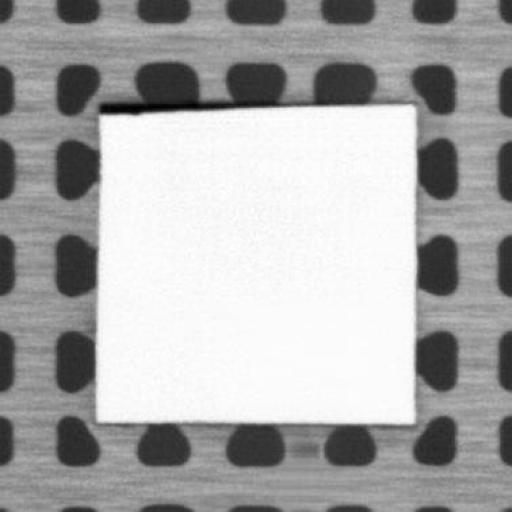DIE_BROKEN: (96, 96, 267, 115)
